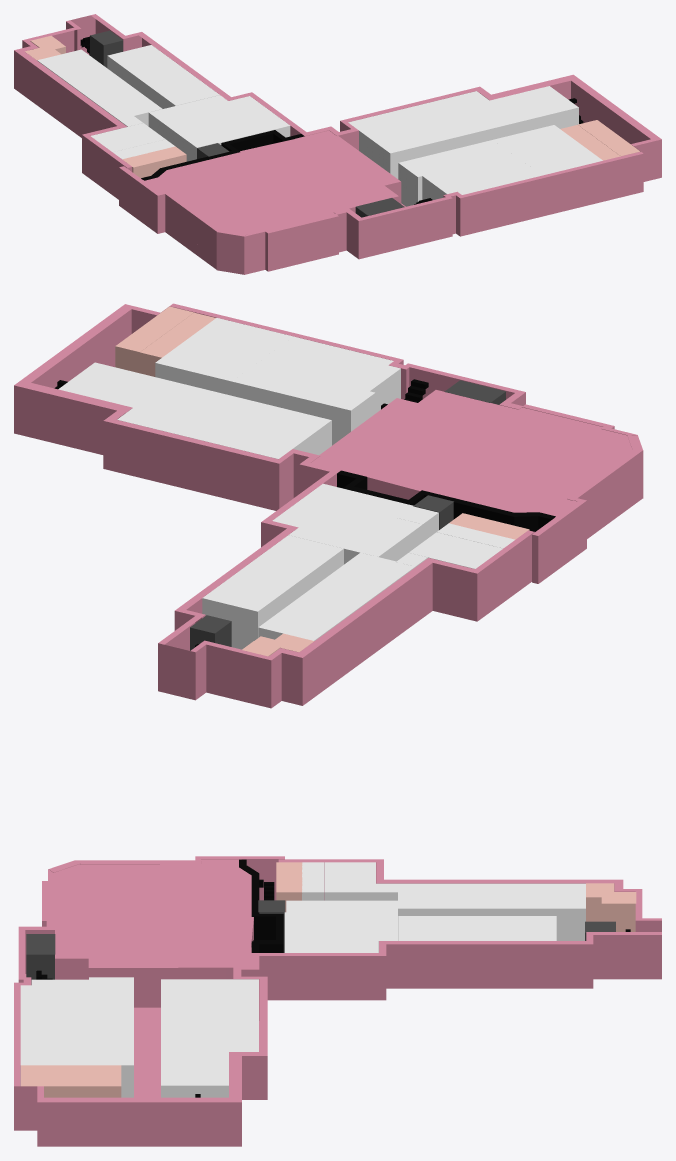
3 views of the same model, one above another, from view 1: azimuth 30°, elevation 25°; view 2: azimuth 150°, elevation 25°; view 3: azimuth 270°, elevation 25° (orthographic). The views are drawn at different scales.
Parts seen in each view (by area): view 1: object, 124, マルチメディア実習室, 121, 122, 125, 123, 第6会議室, ネットワーク実習室, 女子トイレ_1_2_1, エレベーター_1_2_3, 研究室受付 (+14 smaller); view 2: object, 124, マルチメディア実習室, 125, 121, 122, 第6会議室, 123, 研究室受付, ネットワーク実習室, 女子トイレ_1_2_1, 男子トイレ_1_2_1 (+13 smaller); view 3: object, 124, マルチメディア実習室, 125, 第6会議室, 122, 121, 123, 女子トイレ_1_2_1, ネットワーク実習室, エレベーター_1_2_1, 男子トイレ_1_2_3 (+12 smaller).
Boxes of the visible parts, bbox=[...] form: object: bbox=[14, 14, 661, 274]; 124: bbox=[398, 140, 541, 206]; マルチメディア実習室: bbox=[148, 95, 290, 152]; 121: bbox=[348, 107, 455, 178]; 122: bbox=[410, 91, 518, 148]; 125: bbox=[493, 125, 602, 175]; 123: bbox=[489, 86, 578, 133]; 第6会議室: bbox=[37, 49, 121, 89]; ネットワーク実習室: bbox=[91, 123, 165, 152]; 女子トイレ_1_2_1: bbox=[578, 120, 639, 156]; エレベーター_1_2_3: bbox=[90, 30, 123, 67]; 研究室受付: bbox=[107, 45, 164, 78]; object: bbox=[14, 303, 643, 708]; 124: bbox=[232, 336, 400, 445]; マルチメディア実習室: bbox=[272, 483, 422, 564]; 125: bbox=[155, 318, 293, 395]; 121: bbox=[199, 400, 331, 459]; 122: bbox=[117, 381, 252, 439]; 第6会議室: bbox=[258, 590, 364, 640]; 123: bbox=[58, 362, 169, 407]; 研究室受付: bbox=[202, 585, 275, 649]; ネットワーク実習室: bbox=[409, 532, 502, 568]; 女子トイレ_1_2_1: bbox=[115, 306, 193, 373]; 男子トイレ_1_2_1: bbox=[140, 312, 215, 376]; object: bbox=[14, 856, 661, 1146]; 124: bbox=[20, 977, 133, 1030]; マルチメディア実習室: bbox=[284, 900, 397, 952]; 125: bbox=[20, 1030, 133, 1097]; 第6会議室: bbox=[492, 883, 585, 940]; 122: bbox=[161, 1014, 258, 1051]; 121: bbox=[161, 979, 258, 1015]; 123: bbox=[161, 1051, 228, 1097]; 女子トイレ_1_2_1: bbox=[21, 1075, 121, 1097]; ネットワーク実習室: bbox=[324, 862, 375, 900]; エレベーター_1_2_1: bbox=[26, 934, 55, 984]; 男子トイレ_1_2_3: bbox=[586, 883, 614, 921].
Size of the model in its own units: 2.08 by 0.6114 by 2.26.
